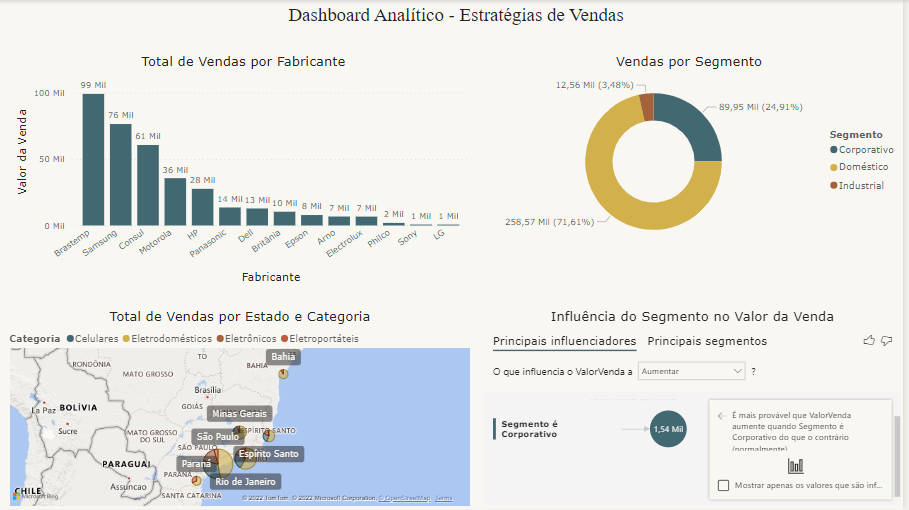

This screenshot's page, from the dashboard's own definition file:
{"tool":"powerbi","page":{"name":"Página 1","canvas":[1280,720],"ordinal":0},"visuals":[{"type":"clusteredColumnChart","title":"Total de Vendas por Fabricante","fields":{"Category":["DIM_PRODUTO.Fabricante"],"Y":["Sum(TB_FATO.ValorVenda)"]},"box":[20.2,75.6,651.8,330.9],"z":0},{"type":"map","title":"Total de Vendas por Estado e Categoria","fields":{"Category":["DIM_LOJA.Estado"],"Size":["Sum(TB_FATO.ValorVenda)"],"Series":["DIM_PRODUTO.Categoria"]},"box":[10.1,435.1,661.8,285.6],"z":1000},{"type":"donutChart","title":"Vendas por Segmento","fields":{"Y":["Sum(TB_FATO.ValorVenda)"],"Series":["DIM_PRODUTO.Segmento"]},"box":[671.9,75.6,608.1,283.9],"z":2000},{"type":"keyDriversVisual","title":"Influência do Segmento no Valor da Venda","fields":{"Target":["TB_FATO.ValorVenda"],"ExplainBy":["DIM_PRODUTO.Segmento"]},"box":[681.8,435.7,598.3,284.3],"z":3000},{"type":"textbox","box":[265.4,0,760.9,58.8],"z":4000}]}

Visuals, with their boxes in screenshot pixels (x1, y1, x2, y2), scaled from the page's 1280x720 canvas onto the 909x510 screenshot:
"Total de Vendas por Fabricante" clusteredColumnChart: bbox=[14, 54, 477, 288]
"Total de Vendas por Estado e Categoria" map: bbox=[7, 308, 477, 509]
"Vendas por Segmento" donutChart: bbox=[477, 54, 908, 255]
"Influência do Segmento no Valor da Venda" keyDriversVisual: bbox=[484, 309, 908, 509]
textbox: bbox=[188, 0, 729, 42]
